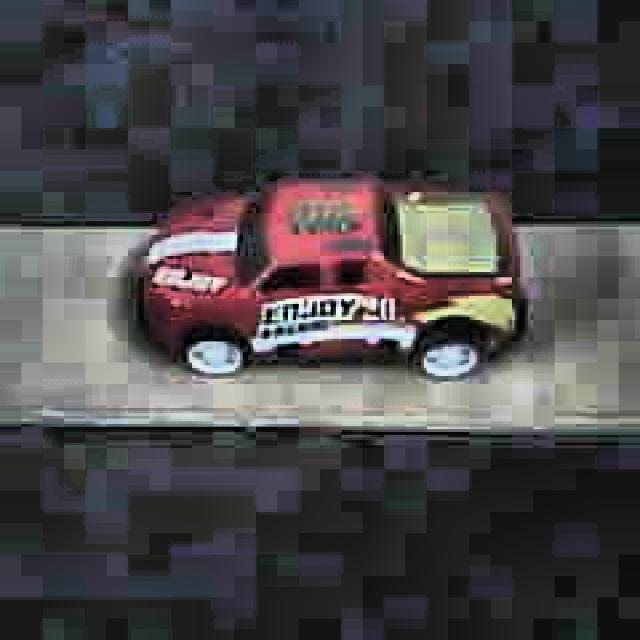car: (133, 173, 528, 385)
